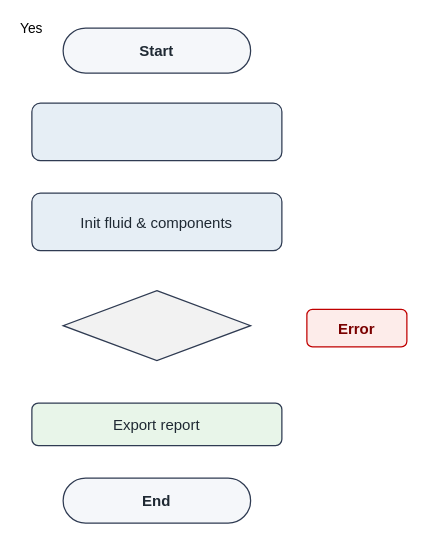
Some shapes in this 428 by 544 pixel diagram are drawn without their labels. The shapes that lost their labels are listed below. From the top down, each one's centre as x and y in pixels, then its label:
At pixel 156 131: "Load & validate config".
At pixel 156 325: "Dry fluid?".
